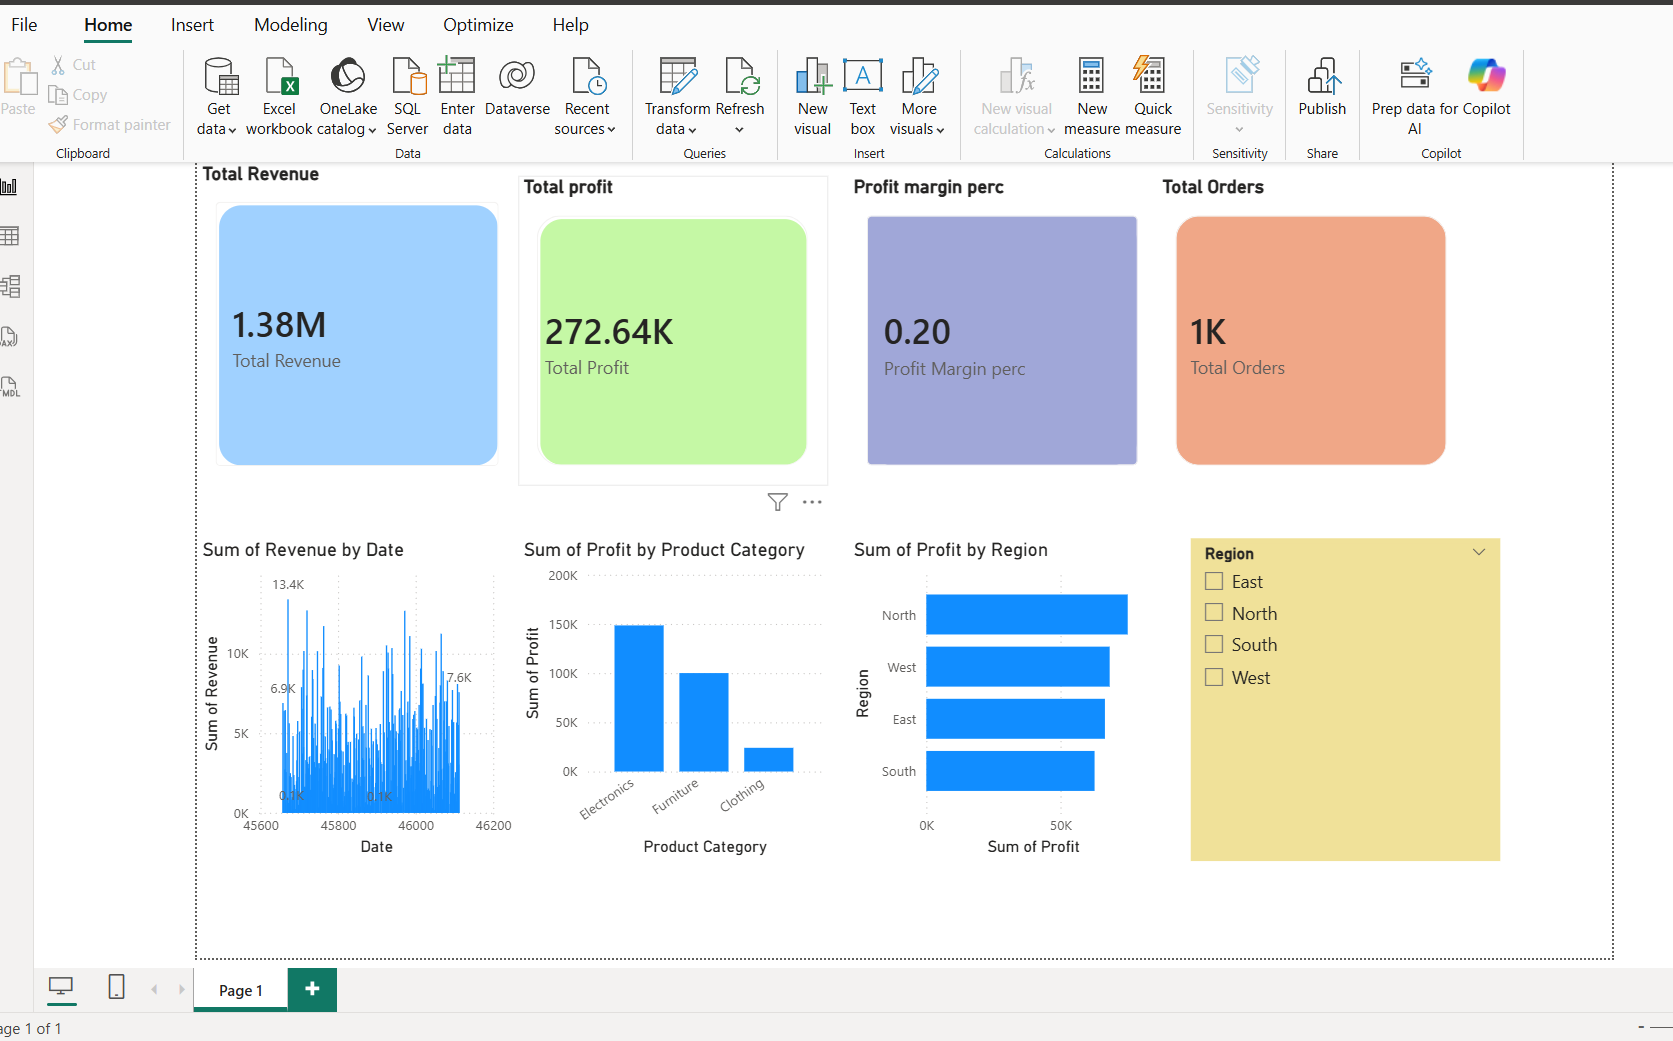

This screenshot's page, from the dashboard's own definition file:
{"tool":"powerbi","page":{"name":"Page 1","canvas":[1280,720],"ordinal":0},"visuals":[{"type":"cardVisual","title":"Total Revenue","fields":{"Data":["SalesData.Total Revenue"]},"box":[0,0,290.9,292.3],"z":0},{"type":"cardVisual","title":"Profit margin perc","fields":{"Data":["SalesData.Profit Margin perc"]},"box":[588.7,12.3,279.9,279.9],"z":1000},{"type":"cardVisual","title":"Total Orders","fields":{"Data":["SalesData.Total Orders"]},"box":[868.6,12.3,279.9,279.9],"z":2000},{"type":"cardVisual","title":"Total profit","fields":{"Data":["SalesData.Total Profit"]},"box":[290.9,12.3,279.9,279.9],"z":3000},{"type":"clusteredColumnChart","fields":{"Category":["SalesData.Date"],"Y":["Sum(SalesData.Revenue)"]},"box":[0,340.3,290.9,292.3],"z":4000},{"type":"clusteredColumnChart","fields":{"Category":["SalesData.Product Category"],"Y":["Sum(SalesData.Profit)"]},"box":[291,340,280,292],"z":5000},{"type":"barChart","fields":{"Category":["SalesData.Region"],"Y":["Sum(SalesData.Profit)"]},"box":[589,340,280,292],"z":6000},{"type":"slicer","fields":{"Values":["SalesData.Region"]},"box":[898.8,340.3,279.9,292.3],"z":6001}]}

Visuals, with their boxes on the page's 1280x720 design canvas (x1, y1, x2, y2). These are canvas units, not pixel positions in the 1673x1041 screenshot, which may show the page scaled, cropped or inside an application window:
"Total Revenue" cardVisual: 0 0 291 292
"Profit margin perc" cardVisual: 589 12 869 292
"Total Orders" cardVisual: 869 12 1148 292
"Total profit" cardVisual: 291 12 571 292
clusteredColumnChart - SalesData.Date x Sum(SalesData.Revenue): 0 340 291 633
clusteredColumnChart - SalesData.Product Category x Sum(SalesData.Profit): 291 340 571 632
barChart - SalesData.Region x Sum(SalesData.Profit): 589 340 869 632
slicer - SalesData.Region: 899 340 1179 633
